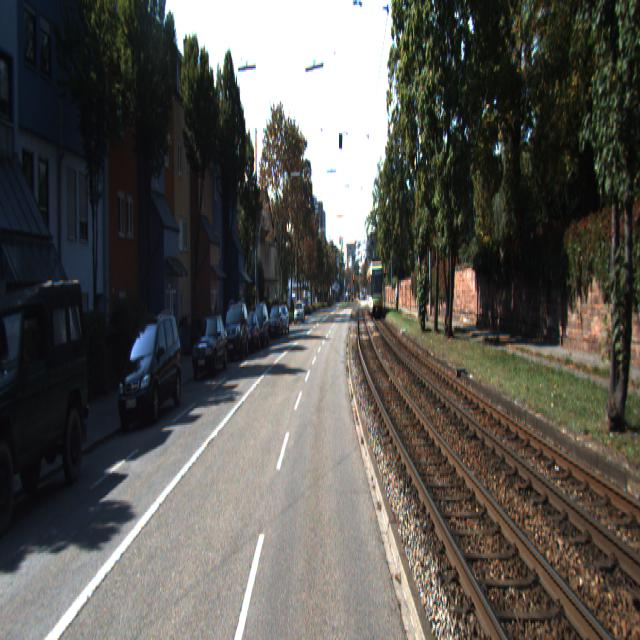Car: (0, 271, 94, 548), (116, 310, 184, 432), (190, 314, 229, 382), (222, 300, 250, 364), (248, 303, 270, 352), (366, 260, 384, 318), (240, 310, 260, 356)
